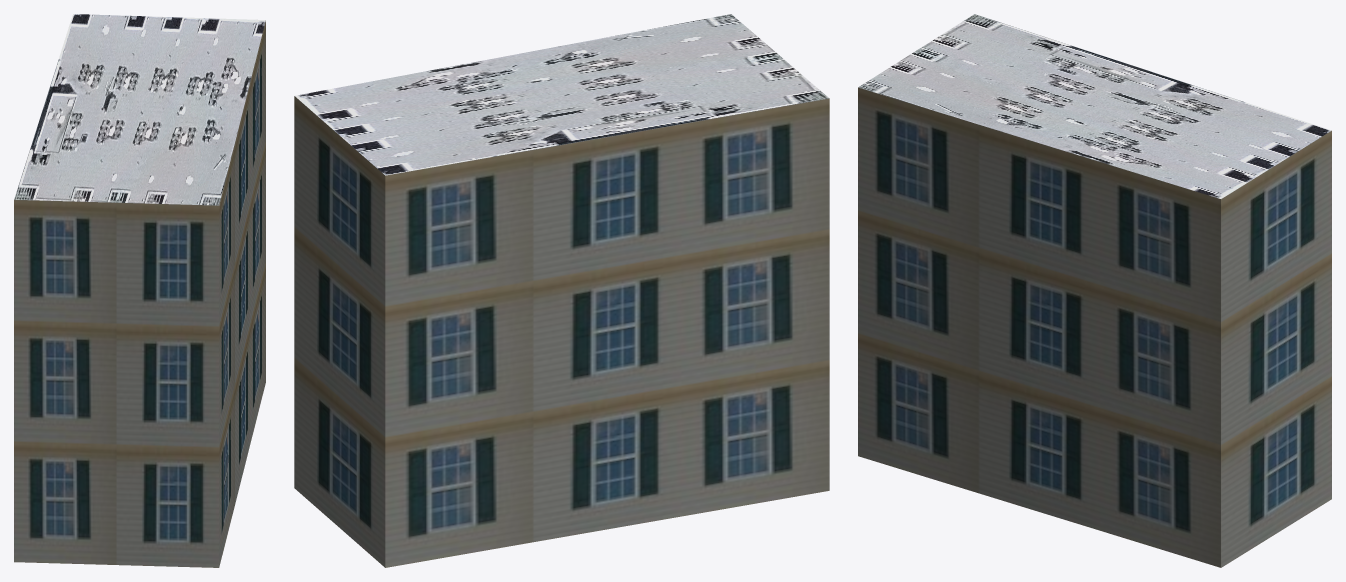
Rendered from ResTex__3851.fbx.
The picture shows the model from 3 angles, left to right: view 1: azimuth 30°, elevation 25°; view 2: azimuth 150°, elevation 25°; view 3: azimuth 270°, elevation 25°; orthographic projection. The views are drawn at different scales.
Visible parts, largest first — view 1: CityEngineMaterial_7_m, CityEngineMaterial_4_m; view 2: CityEngineMaterial_7_m, CityEngineMaterial_4_m; view 3: CityEngineMaterial_7_m, CityEngineMaterial_4_m.
Part boxes in pixels (box(x1,y1,x2,y2)): CityEngineMaterial_7_m: box(14, 21, 265, 567); CityEngineMaterial_4_m: box(14, 14, 265, 205); CityEngineMaterial_7_m: box(294, 96, 829, 567); CityEngineMaterial_4_m: box(295, 14, 828, 175); CityEngineMaterial_7_m: box(858, 87, 1331, 567); CityEngineMaterial_4_m: box(858, 14, 1331, 198).
Size of the model in its own units: 9.69 by 9 by 10.48.
Materials: 2 (2 with a texture image).
